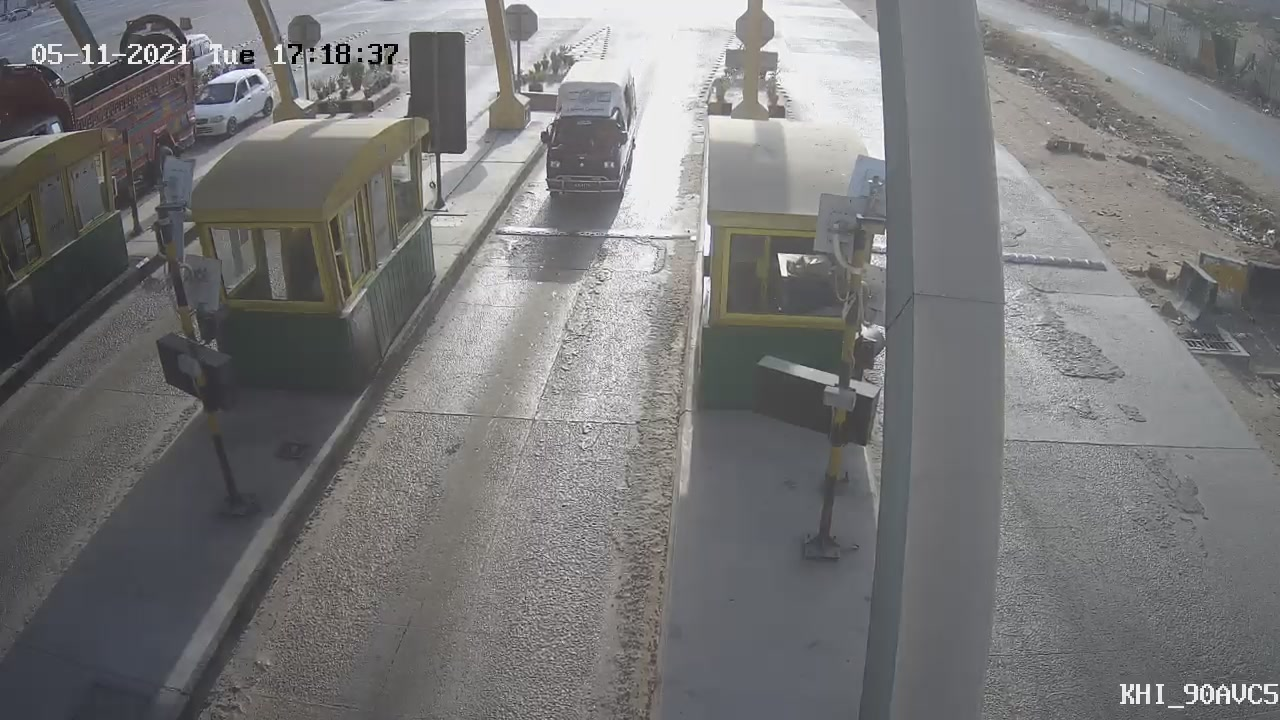F1: (522, 49, 655, 224)
